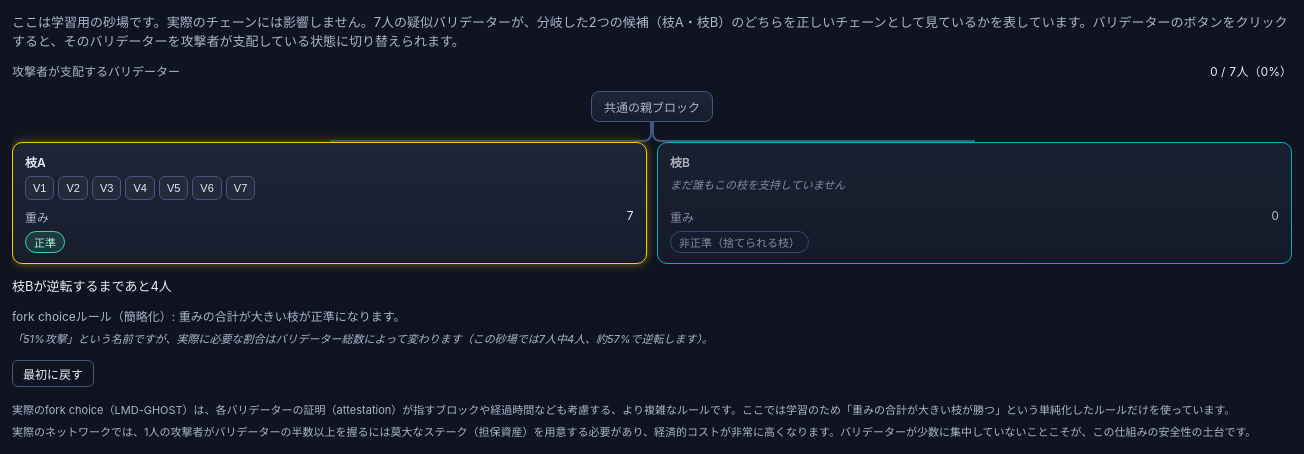
Test: FiftyOnePercentAttackDemoView: canonical branch flips at the 4-of-7 boundary › keeps branch A canonical with 3 attacker-controlled validators (margin: 1 more)
The image size is (1304, 454).
Click the button with test id "attack51-demo-validator-1" at point(40, 188), box [25, 176, 54, 200]
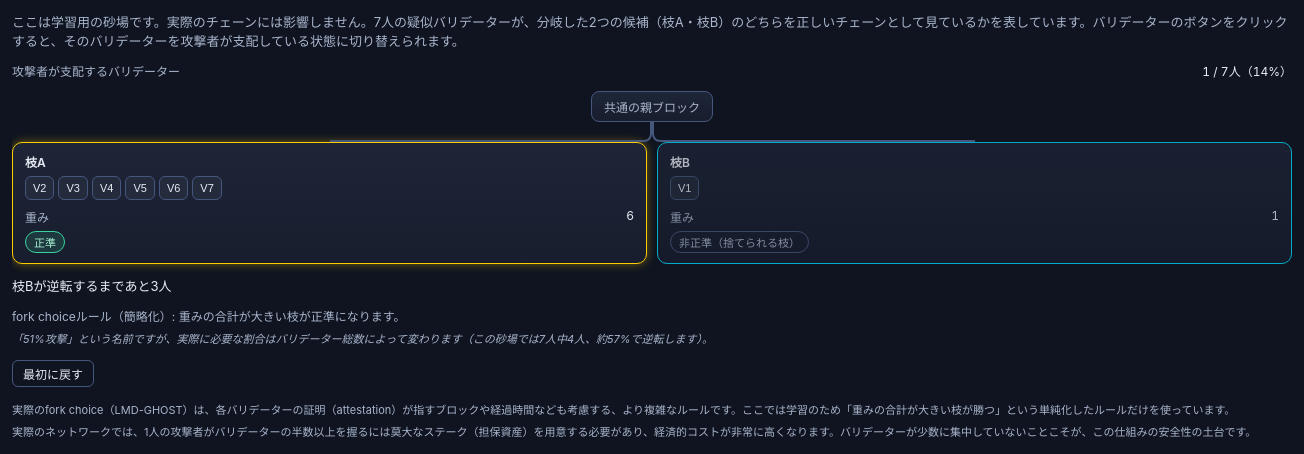
Click the button with test id "attack51-demo-validator-2" at point(40, 188), box [25, 176, 54, 200]
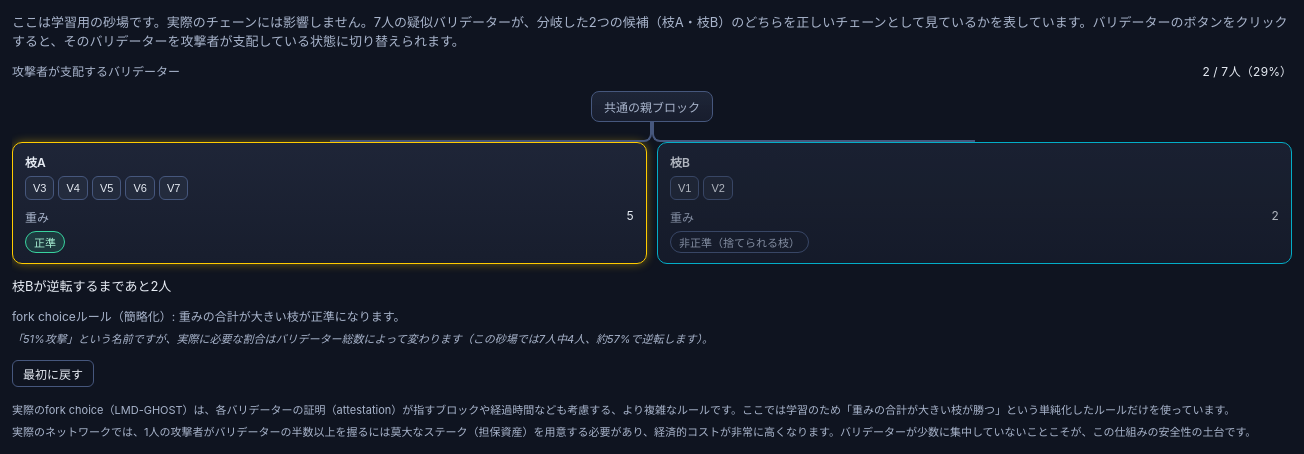
Click the button with test id "attack51-demo-validator-3" at point(40, 188), box [25, 176, 54, 200]
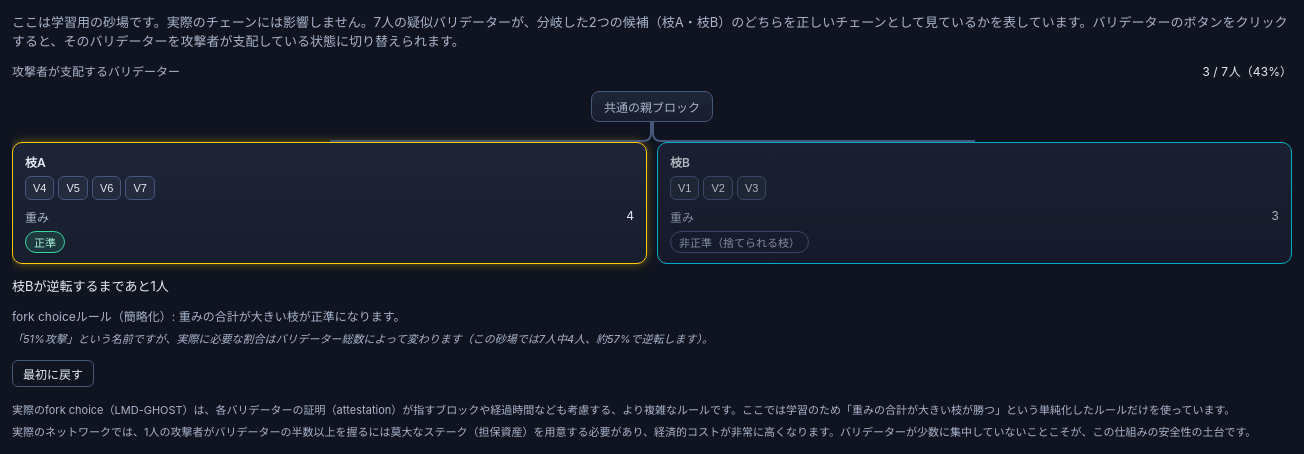
Check: the text with test id "attack51-demo-branch-b-badge" reads "非正準（捨てられる枝）", box [679, 236, 800, 250]
Check: the text with test id "attack51-demo-margin-hint" reads "枝Bが逆転するまであと1人", box [12, 278, 169, 294]
